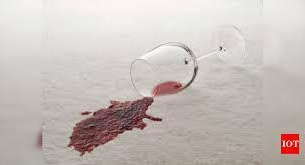wine: (66, 90, 161, 154)
